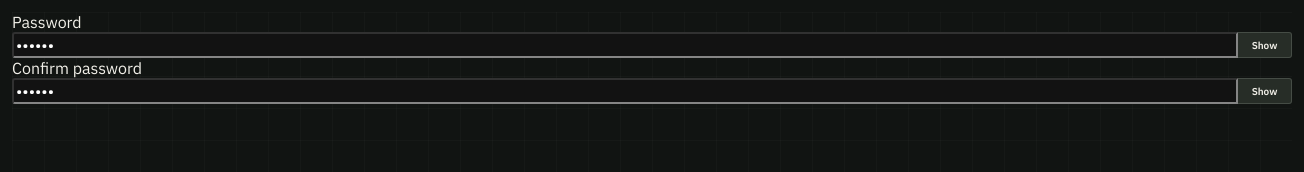
Scenario: authentication › shows passwords on request and asks users to confirm new passwords
Click the button with aria-label "Show password": (1265, 45) [1238,32,1292,58]
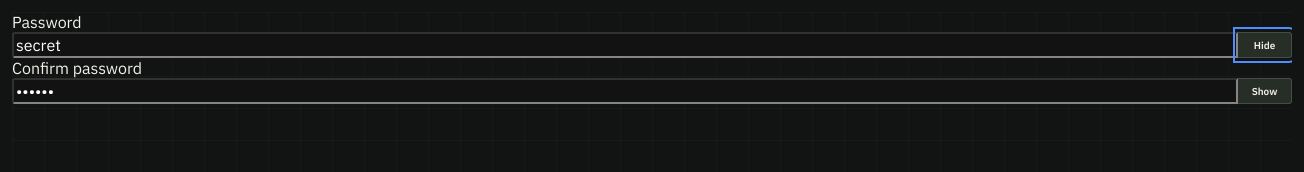
Expected: the field labelled "Password" shows its text, [12,32,1238,58]
